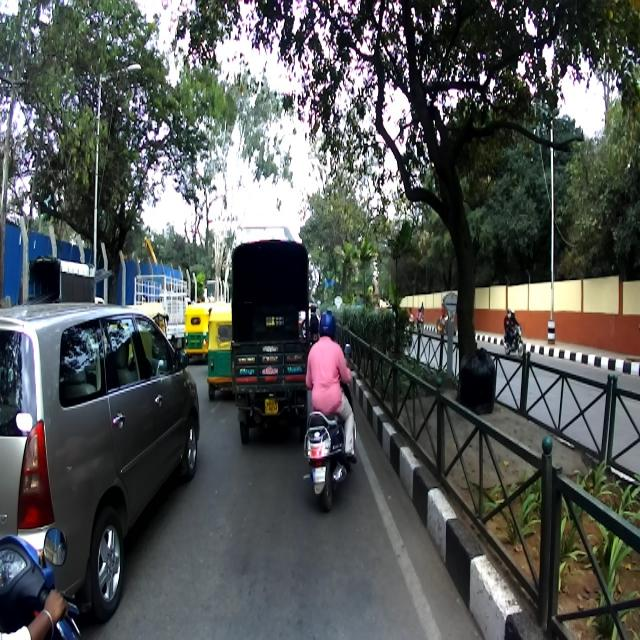car: (0, 302, 199, 617)
scooter: (0, 524, 83, 639), (302, 342, 356, 514)
